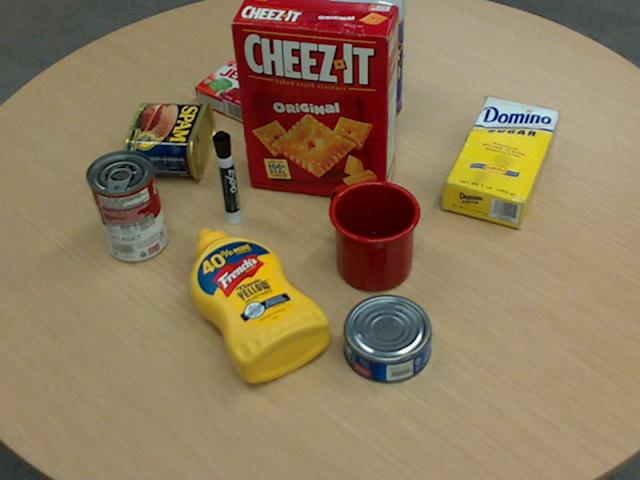cracker_box: (231, 0, 399, 199)
gelatin_box: (193, 59, 281, 123)
large_marker: (211, 130, 240, 225)
master_chef_can: (318, 0, 404, 128)
mug: (327, 179, 421, 290)
mustard_bottle: (188, 228, 330, 381)
potted_meat_can: (124, 101, 215, 178)
sugar_box: (442, 97, 559, 227)
tomato_soup_can: (85, 148, 166, 260)
tuna_fish_can: (344, 294, 432, 382)
